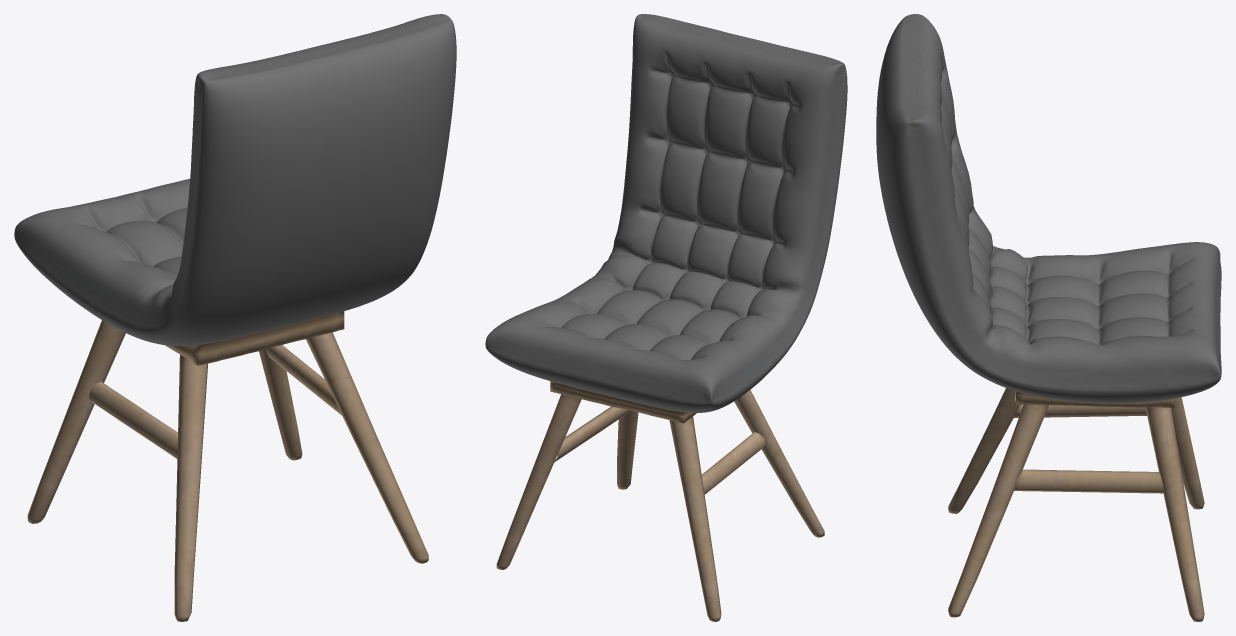
File: Chair09.glb
3 renders of one model, left to right at view 1: azimuth 30°, elevation 25°; view 2: azimuth 150°, elevation 25°; view 3: azimuth 270°, elevation 25°, orthographic. The views are drawn at different scales.
Visible parts, largest first — view 1: Chair09_model; view 2: Chair09_model; view 3: Chair09_model.
Part boxes in pixels (x1,y1,x2,y2): Chair09_model: (14,14,456,621); Chair09_model: (485,14,847,621); Chair09_model: (876,14,1221,621).
Size of the model in its own units: 1.11 by 2.14 by 1.35.
Materials: 1 (1 with a texture image).
